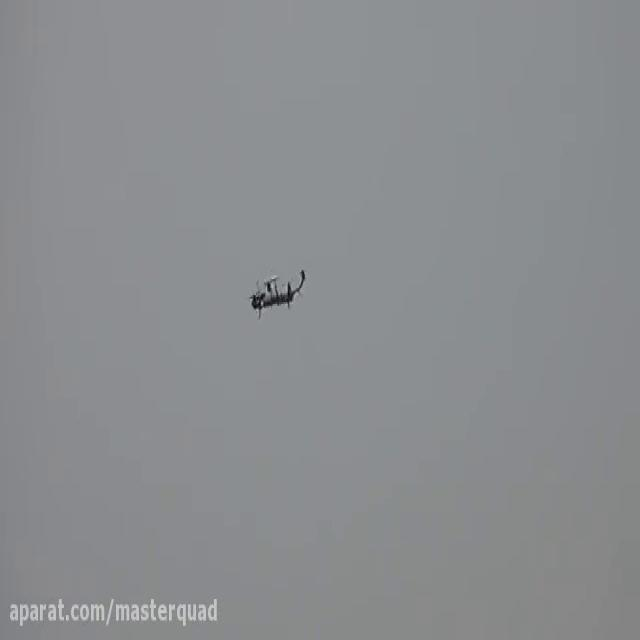drone: (244, 260, 311, 324)
